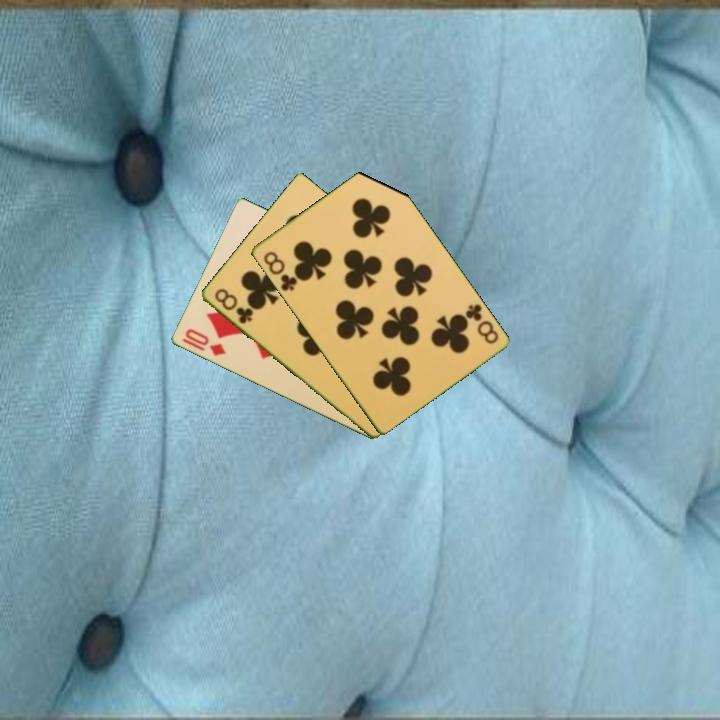10d: (178, 325, 229, 359)
8c: (259, 247, 300, 294), (211, 285, 256, 327), (461, 300, 501, 347)
